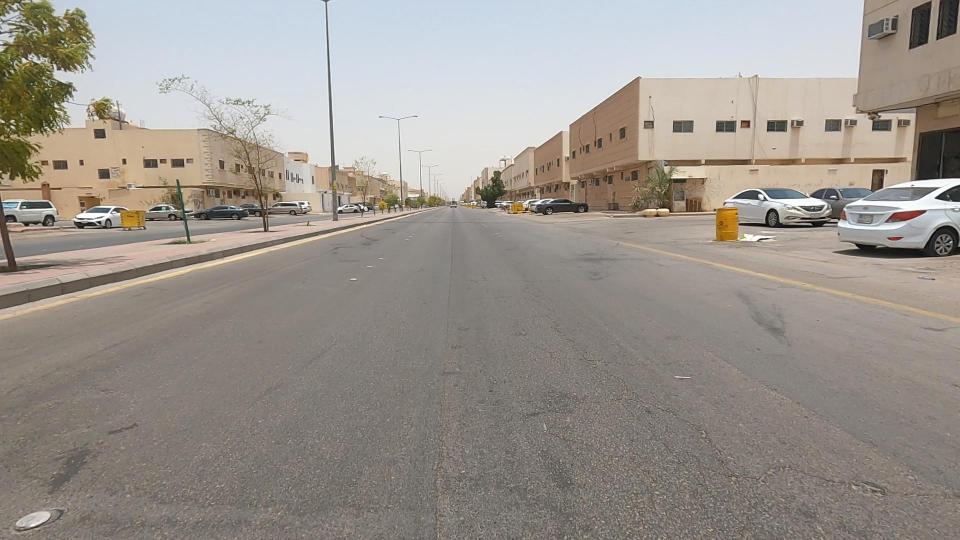GARBAGE: (707, 204, 803, 274)
